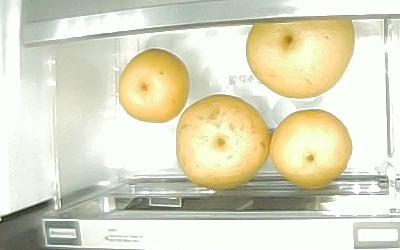pear: (175, 94, 270, 190), (245, 20, 354, 98), (271, 109, 352, 189), (118, 48, 189, 123)
